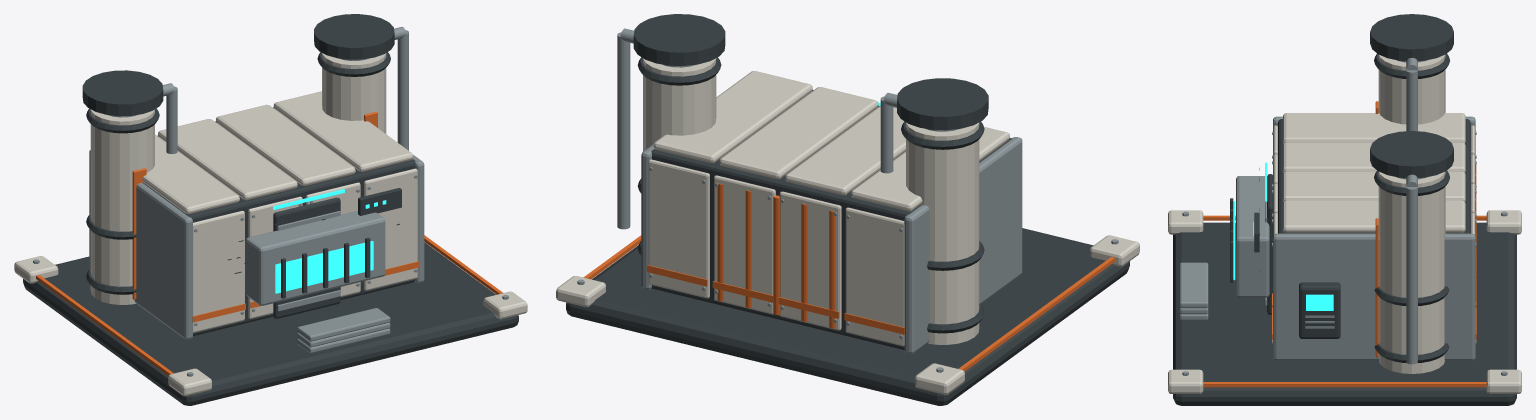
Rendered from SM_UraniumProcessor_Body.001.fbx.
The picture shows the model from 3 angles, left to right: view 1: azimuth 30°, elevation 25°; view 2: azimuth 150°, elevation 25°; view 3: azimuth 270°, elevation 25°; orthographic projection. The views are drawn at different scales.
Parts seen in each view (by area): view 1: SM_UraniumProcessor_Body.001; view 2: SM_UraniumProcessor_Body.001; view 3: SM_UraniumProcessor_Body.001.
Part boxes in pixels (x1=…): SM_UraniumProcessor_Body.001: x1=14, y1=14, x2=527, y2=405; SM_UraniumProcessor_Body.001: x1=556, y1=14, x2=1139, y2=405; SM_UraniumProcessor_Body.001: x1=1168, y1=14, x2=1521, y2=405.
Size of the model in its own units: 492 by 422 by 308.
